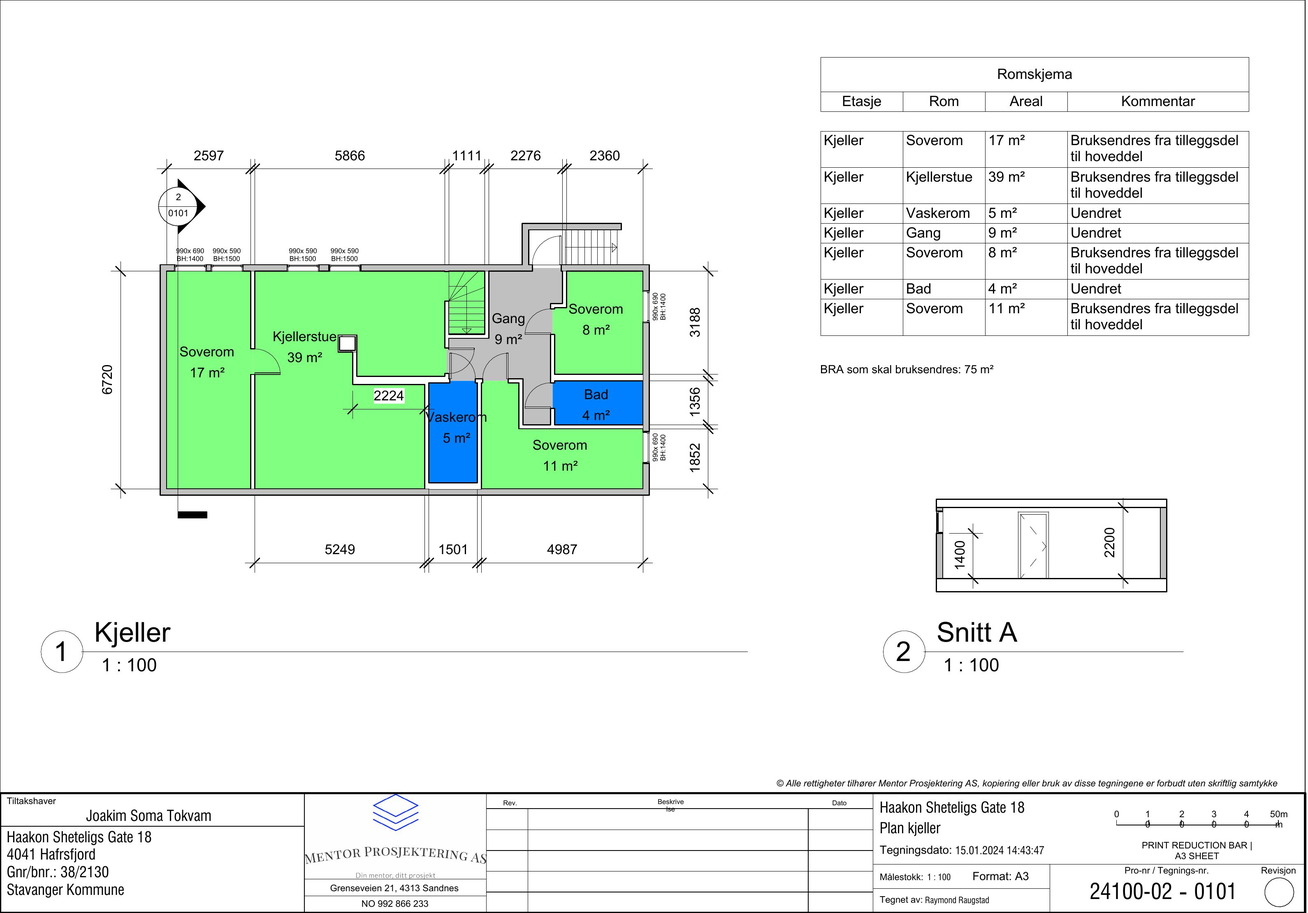plantegning: (161, 222, 648, 497)
snitt: (933, 497, 1170, 595)
